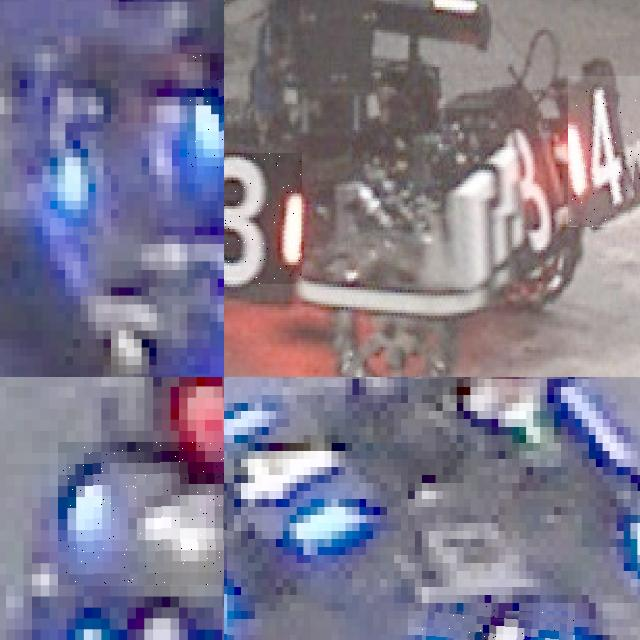B4: (57, 441, 224, 585), (422, 603, 575, 640), (66, 607, 224, 640)
R3: (224, 152, 302, 284)
R4: (568, 75, 640, 227)
